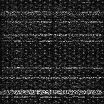lte: (1, 89, 104, 95), (1, 66, 104, 69), (1, 76, 104, 79), (1, 33, 104, 36), (1, 20, 104, 23)
